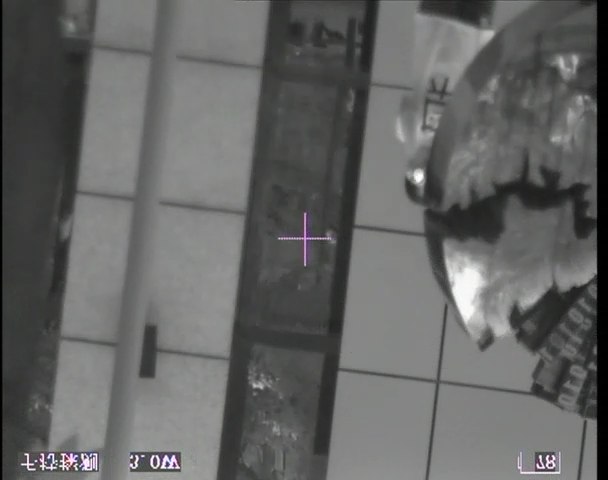my: (411, 168, 425, 183)
